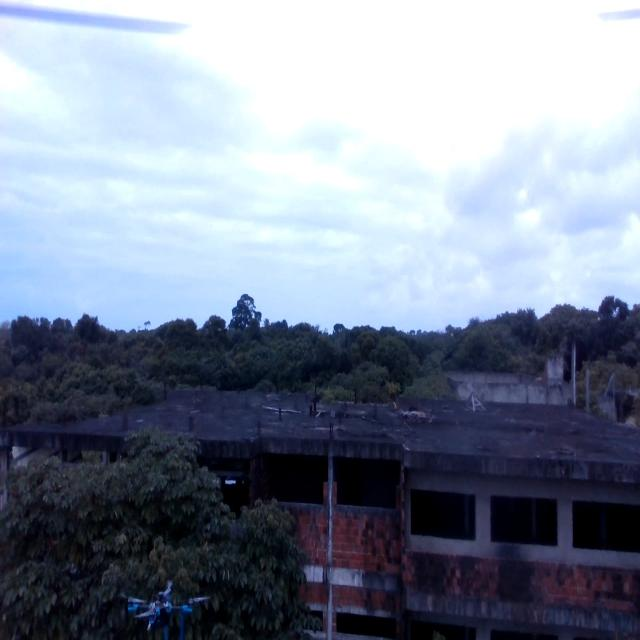-uav-: (119, 578, 215, 640)
